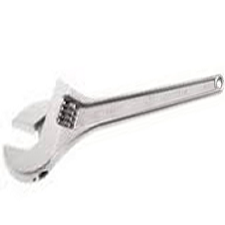wrench: (2, 57, 225, 190)
